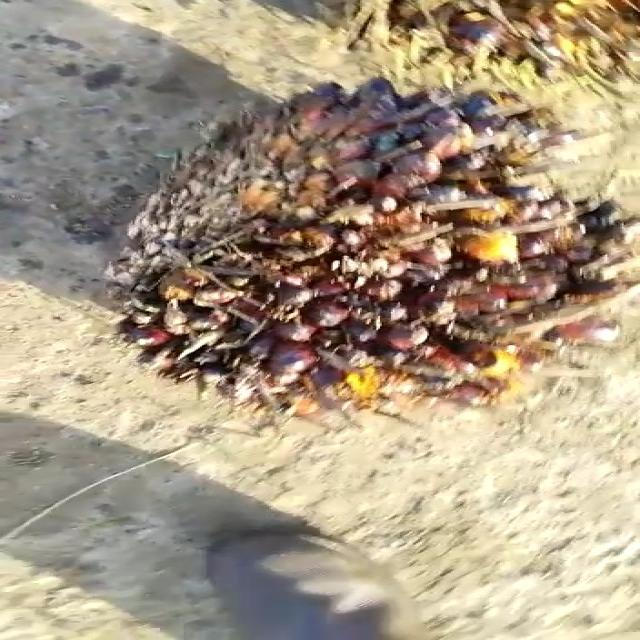palm oil: (85, 61, 640, 450)
